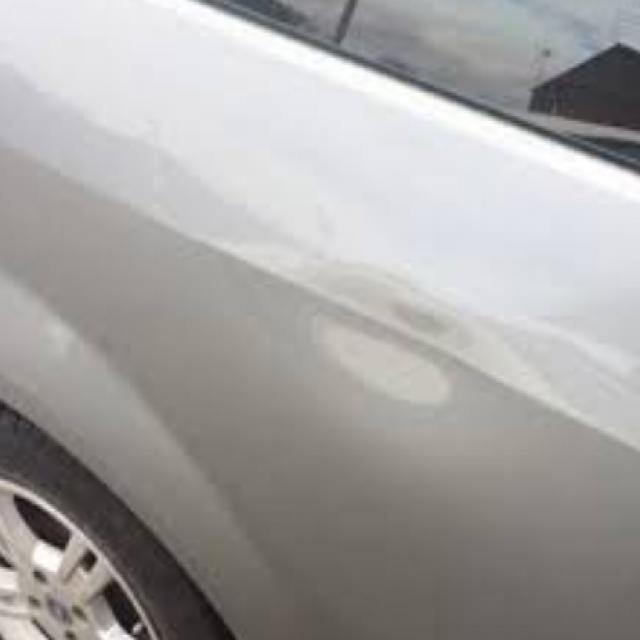dents: (304, 259, 474, 412)
